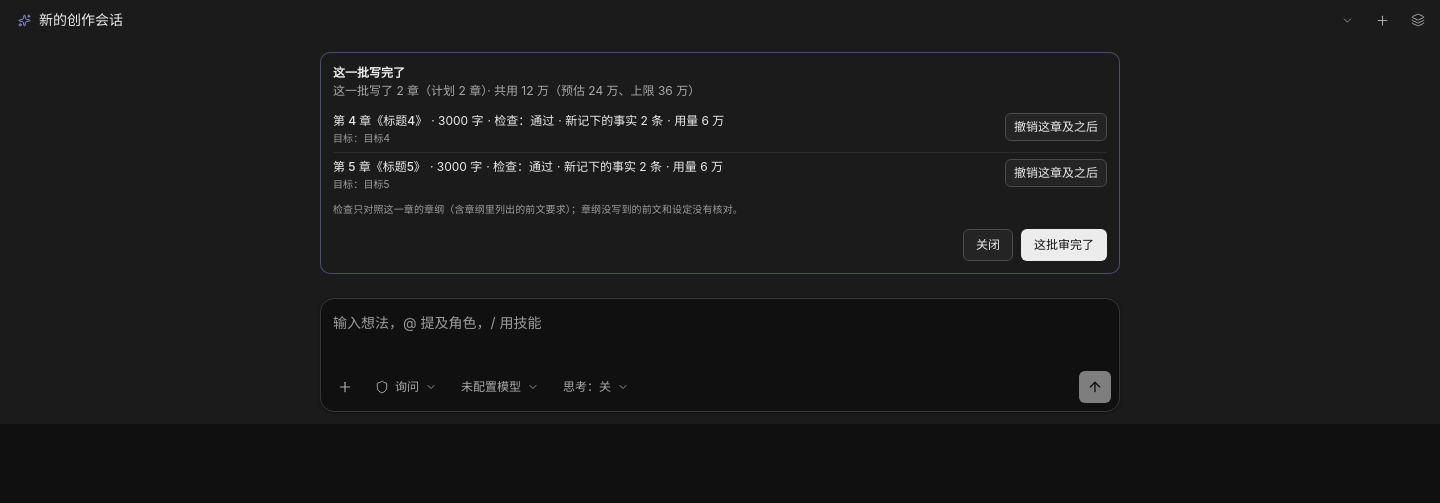
Test: 编辑器里有没保存的字：一章都不删
What coordinates should you click on to do the following:
click the button "撤销这章及之后" in the row of "目标4"
I would click on:
 (1056, 127)
Its box is [1005, 113, 1107, 141].
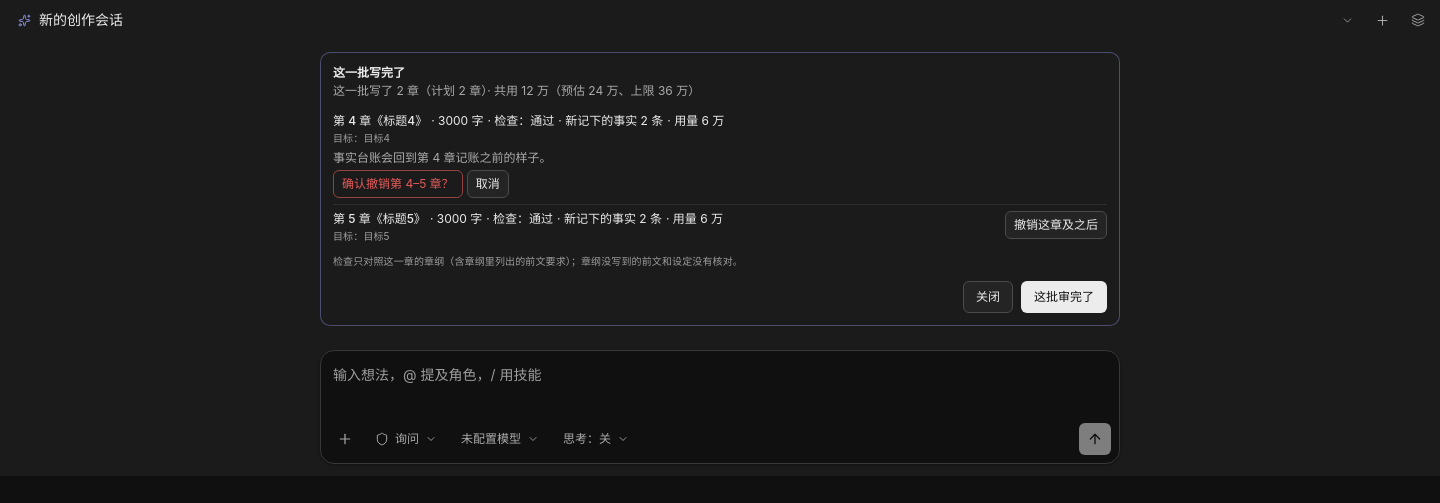
What coordinates should you click on to do the following:
click the button "确认撤销第 4–5 章？"
I would click on:
 (398, 184)
Its box is [333, 170, 463, 198].
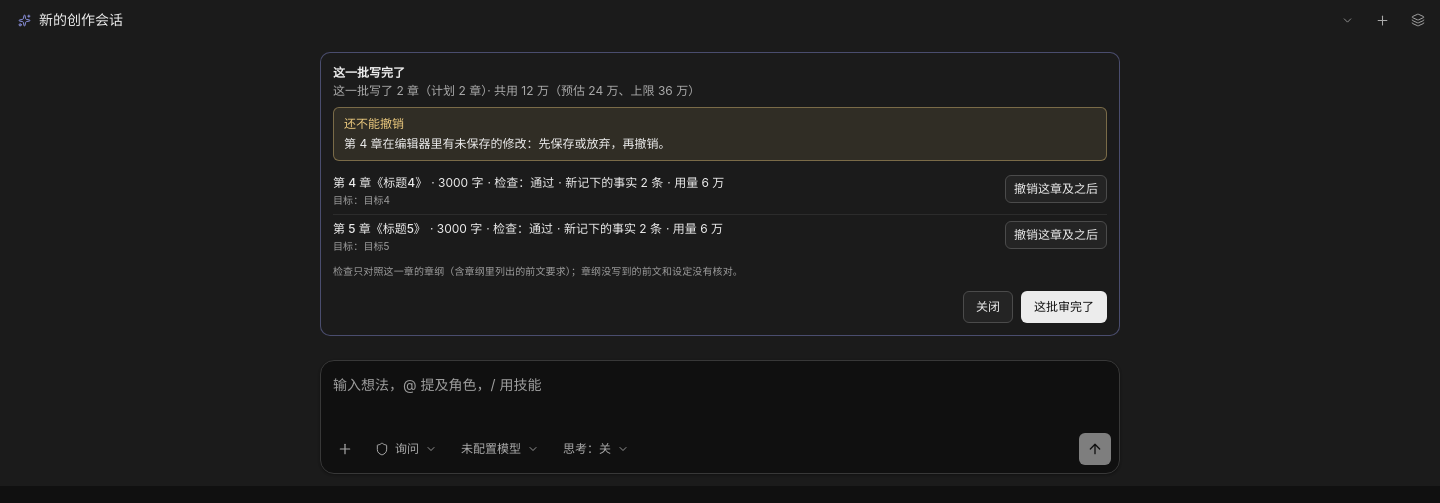
Result: the list item with test id "write-batch-undo-blocker" reads "第 4 章在编辑器里有未保存的修改：先保存或放弃，再撤销。" at [344, 136, 670, 151]
